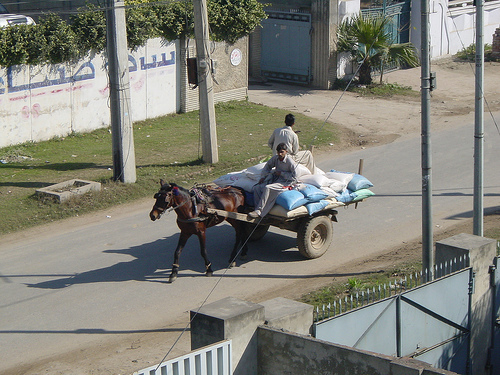horse: (149, 178, 247, 281)
